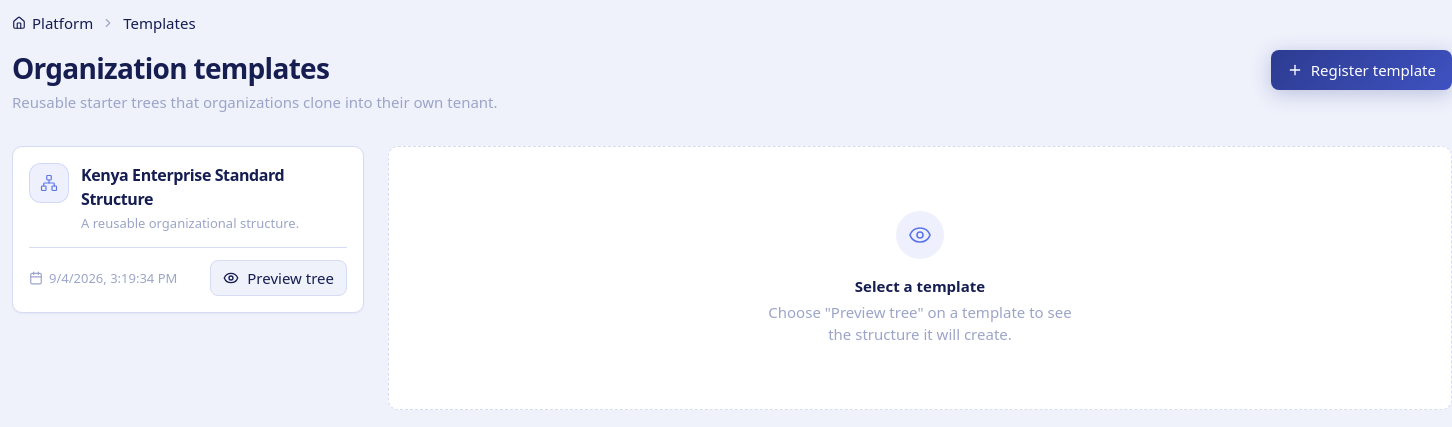
Test: PlatformTemplates › closes the inline preview
Expected: the heading "Kenya Enterprise Standard Structure" is shown, [81,164,284,210]
Click the button "Preview tree" at [279, 278], box [210,260,347,296]
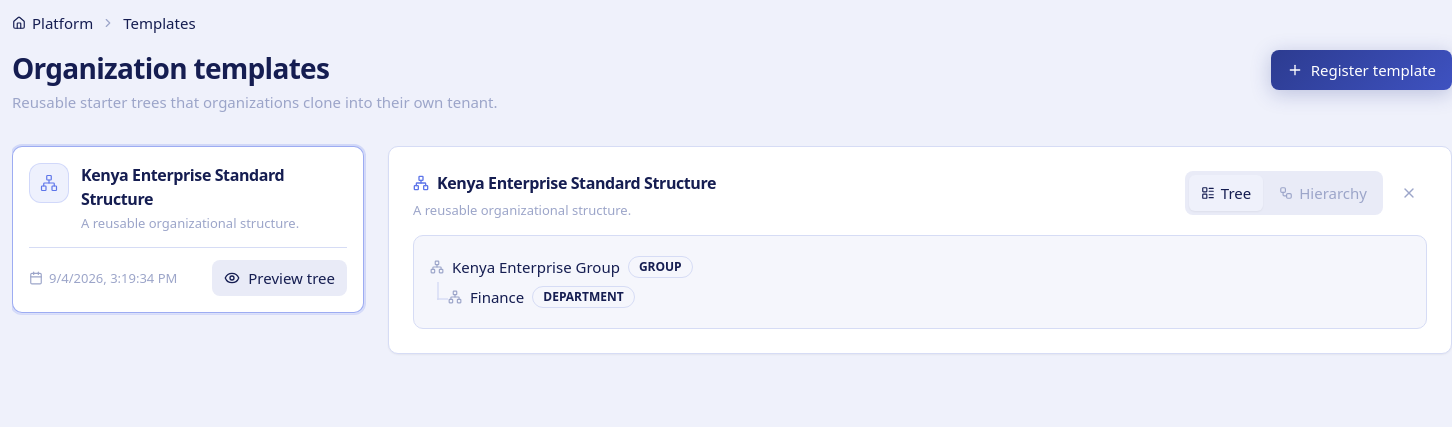
Now the text "Kenya Enterprise Group" is shown, box [452,256,620,278]
Click the button named "Close preview" at [1409, 193], box [1391,175,1427,211]
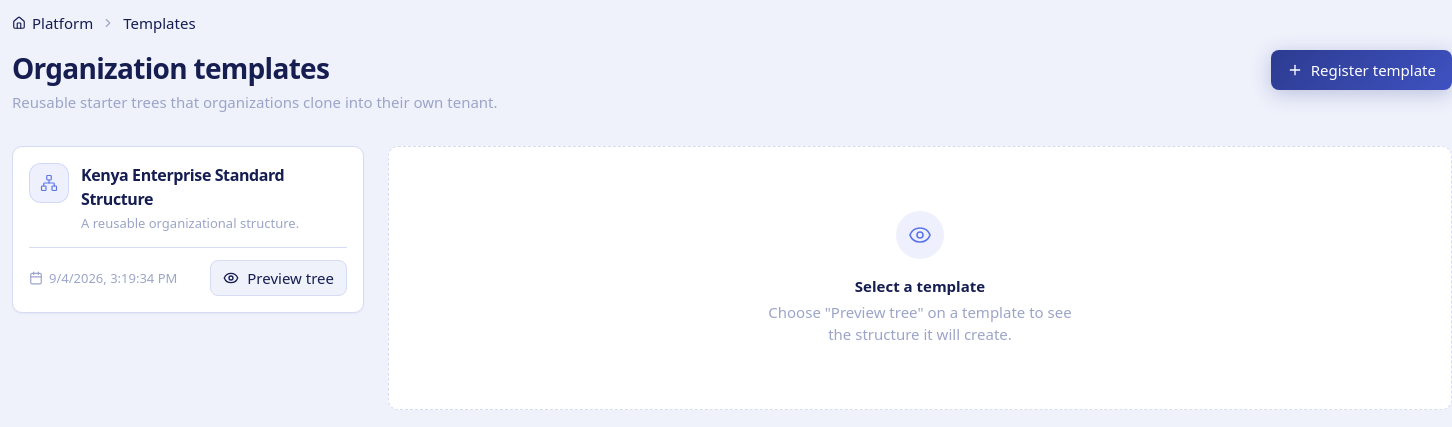
Now the text "Kenya Enterprise Group" is gone
